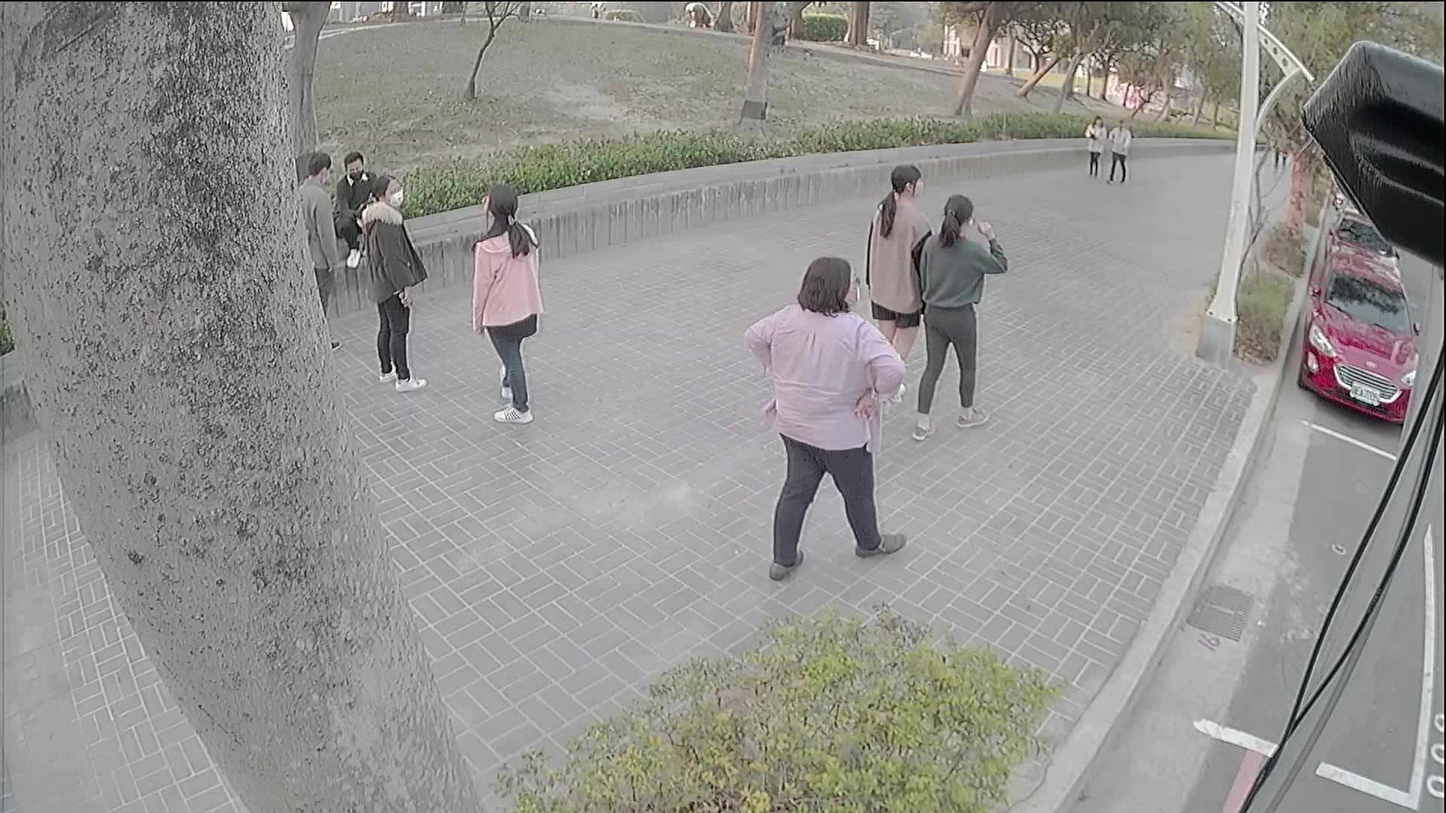person: (745, 255, 904, 577), (911, 193, 1004, 442), (472, 180, 541, 422), (359, 174, 425, 387), (865, 163, 929, 329), (296, 154, 330, 309), (331, 152, 371, 269), (1110, 120, 1133, 182), (1084, 116, 1104, 176)
